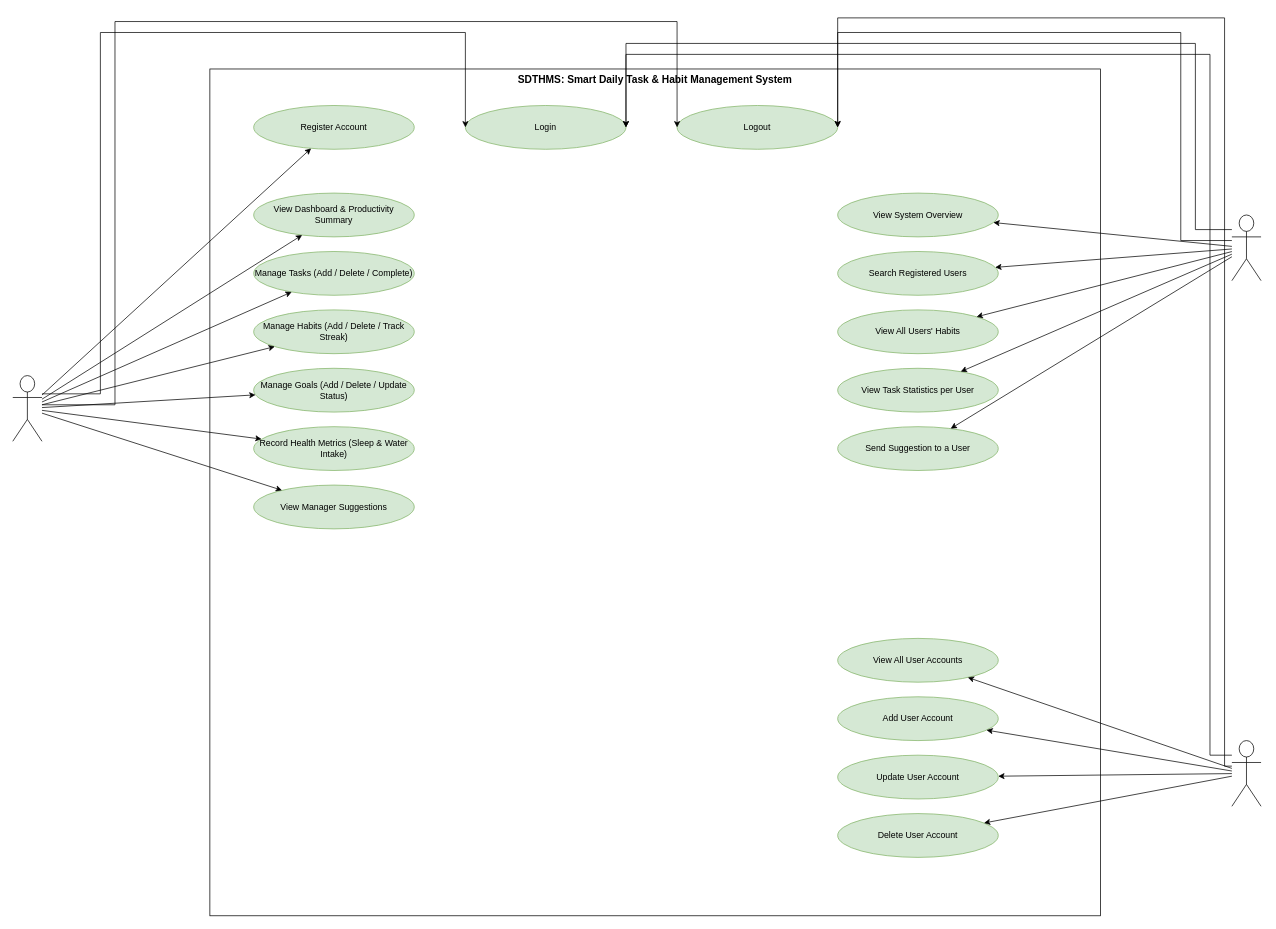
Image size: 1276x929. Some labels were removed from this diagram. The shapes that lost their labels are listed below. From the top down, each one's box as (x1, y1, x2, y2) in pixels, then its label:
(1231, 214, 1261, 281): Manager
(12, 375, 42, 441): User
(1231, 740, 1261, 806): Admin
